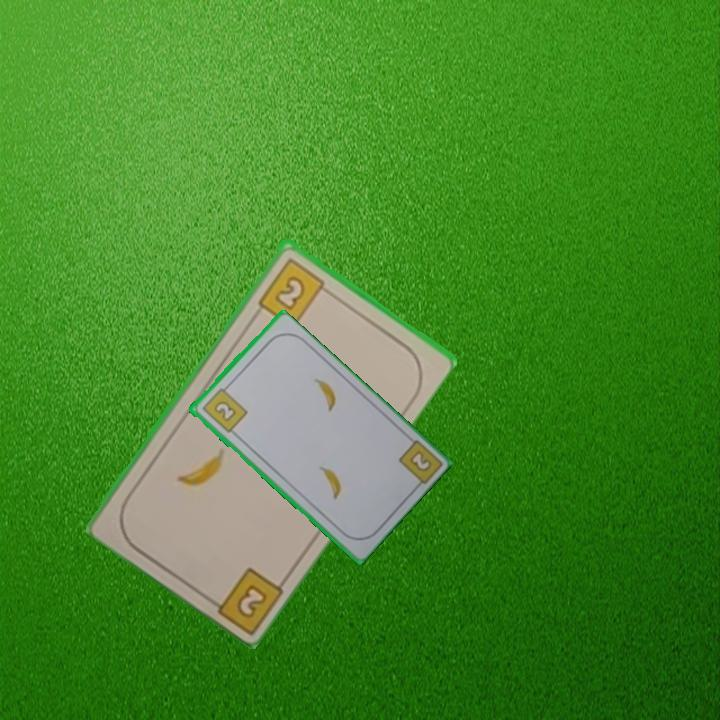2b: (254, 254, 334, 330), (201, 563, 286, 634), (198, 381, 250, 436), (405, 447, 434, 475)
